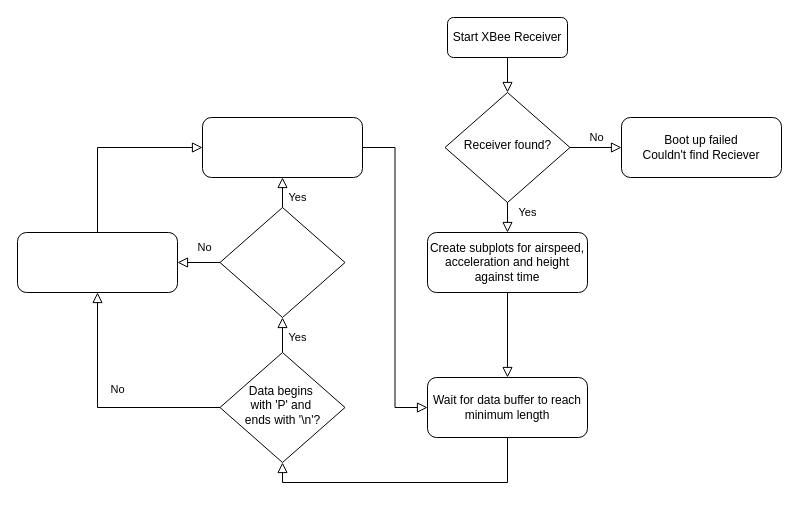
Some shapes in this 799 by 510 pixel diagram are drawn without their labels. The shapes that lost their labels are listed below. From the top down, each one's centre as x and y in pixels, then its label:
pixel 282 147: Plot new values
pixel 97 262: Replace any broken values with their previous readings
pixel 282 262: Are values valid floats and not -20?
